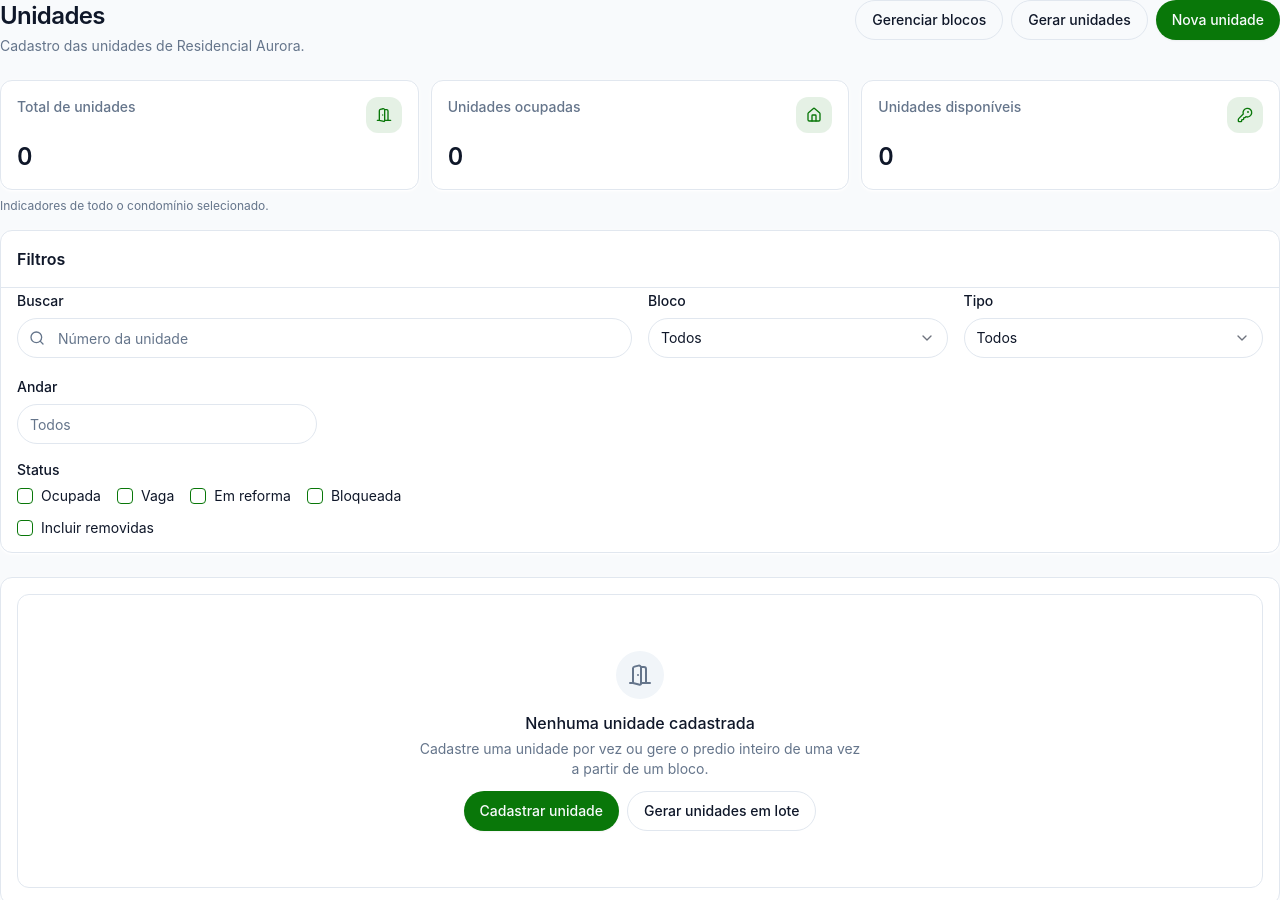
Test case: Gestao de blocos do condomínio › IT-203: renomear para um nome já usado aparece como conflito no formulário
Check: the text "Nenhuma unidade cadastrada" is shown, box [525,713,755,733]
Click the button "Gerenciar blocos" at (929, 20), box [855,0,1003,40]
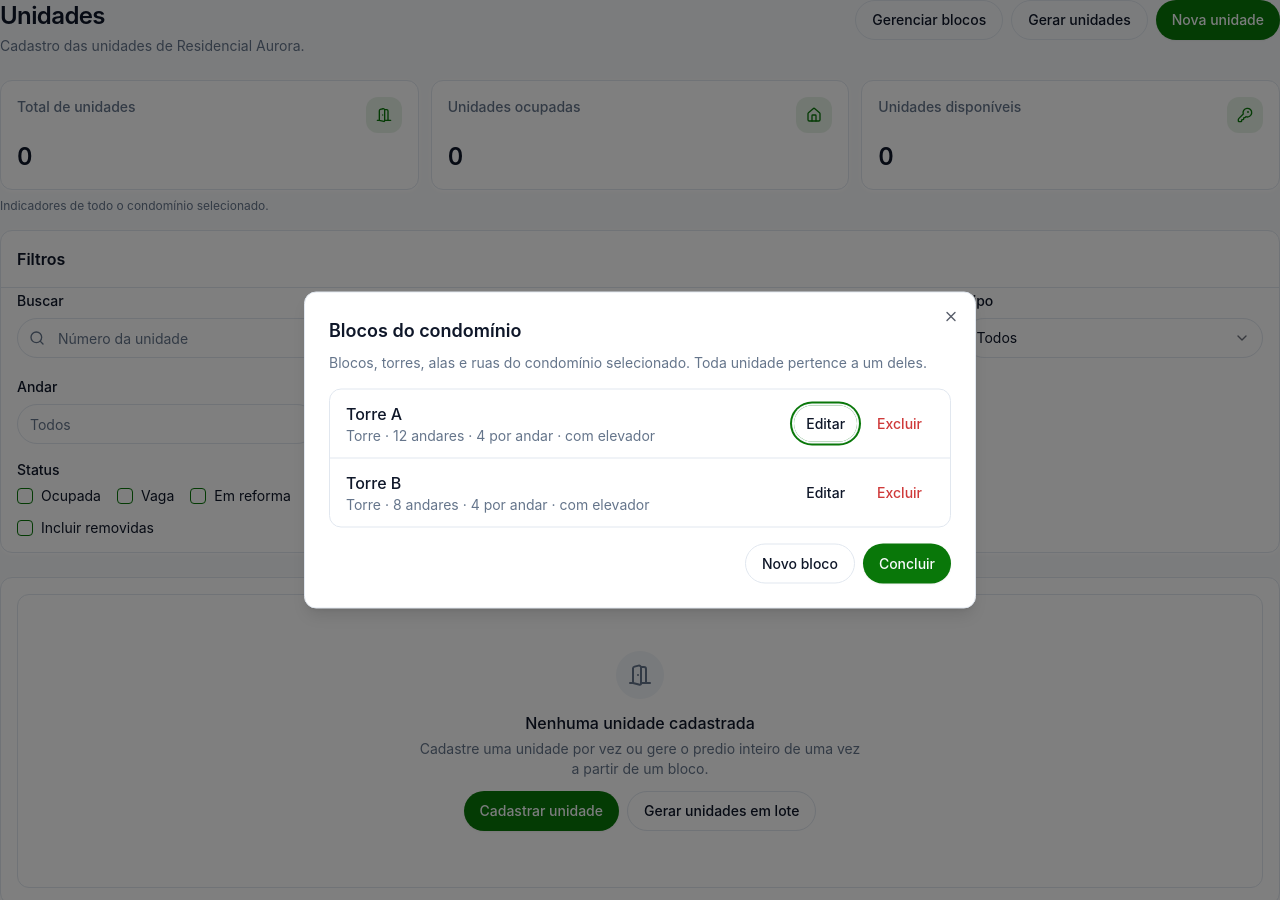
Check: the heading "Blocos do condomínio" is shown, box [329,320,521,340]
Click the button "Editar" in the row of "Torre A" at (826, 424), box [794,406,857,442]
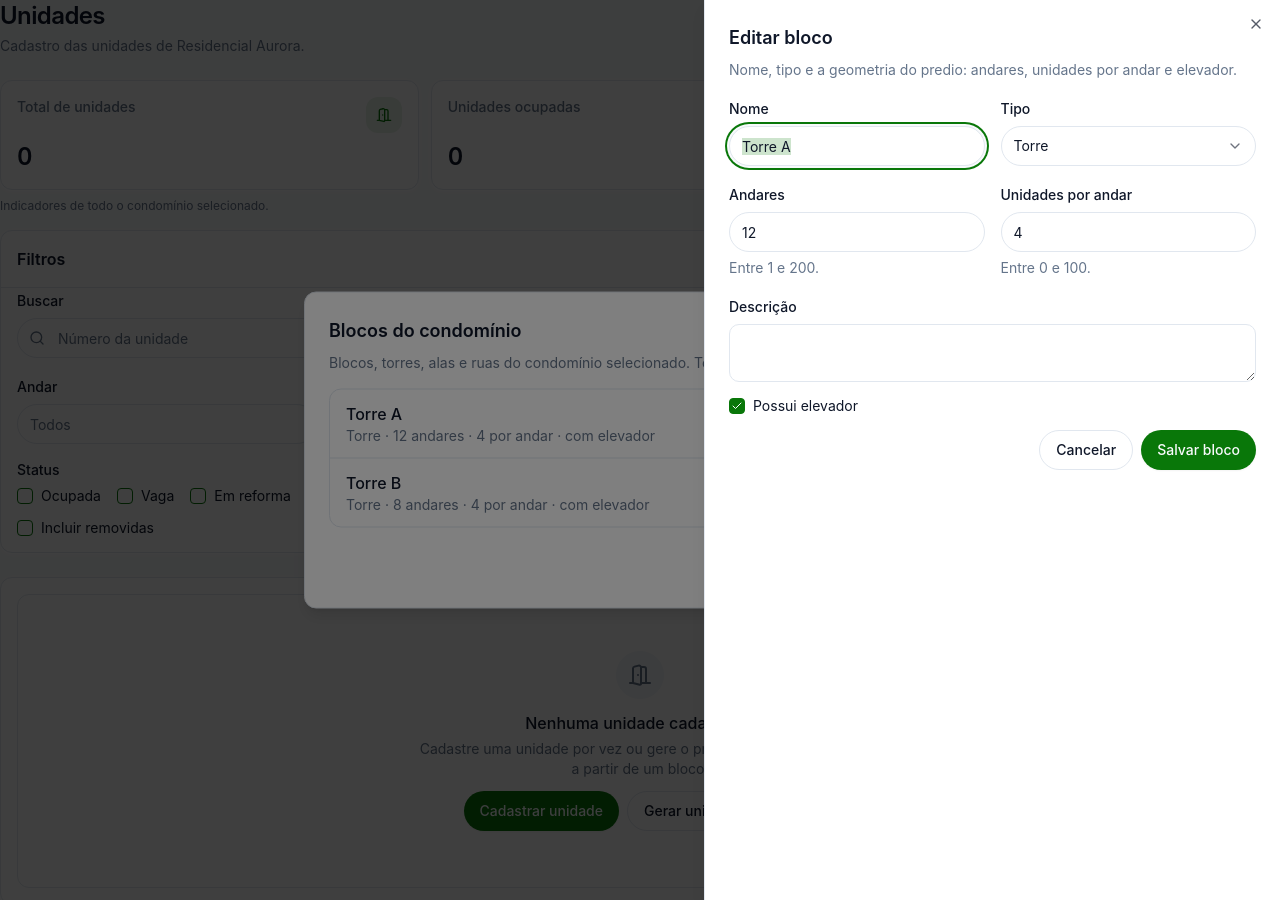
Check: the field labelled "Nome" is shown
Replace the text in the field labelled "Nome" with "Torre B" at (857, 146), box [729,126,984,166]
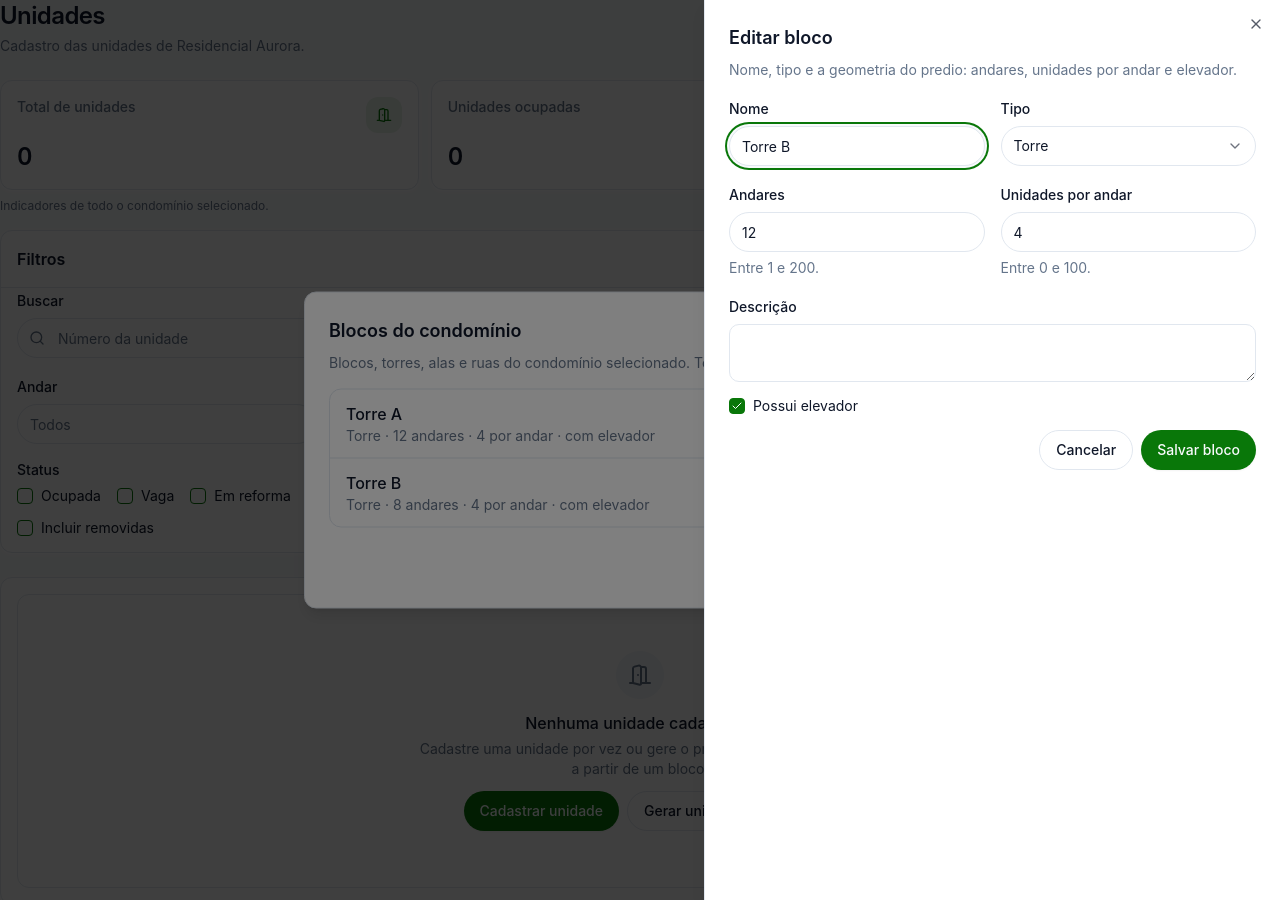
Click the button "Salvar bloco" at (1199, 450), box [1141,430,1256,470]
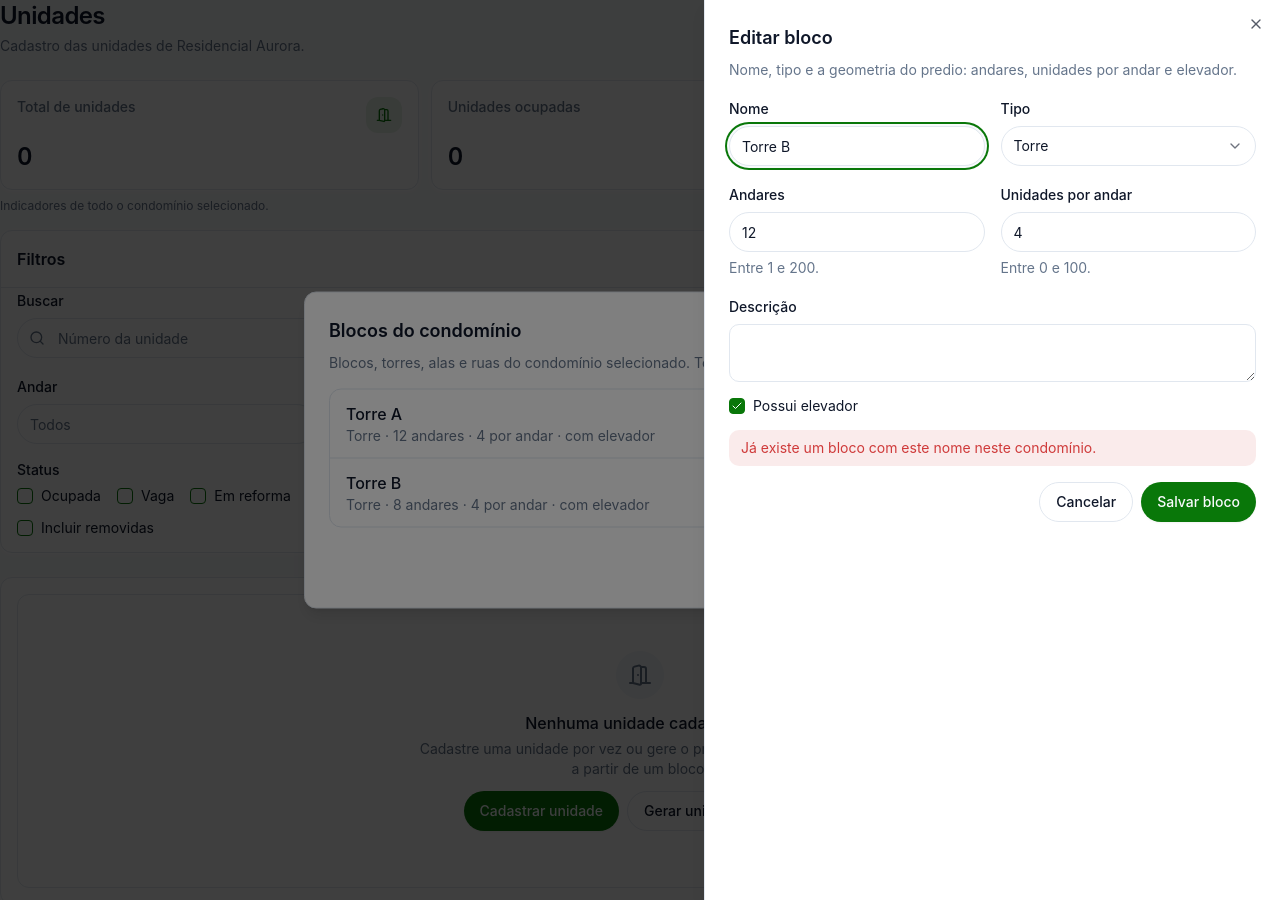
Check: the text "Já existe um bloco com este nome neste condomínio." is shown, box [729,430,1256,466]
